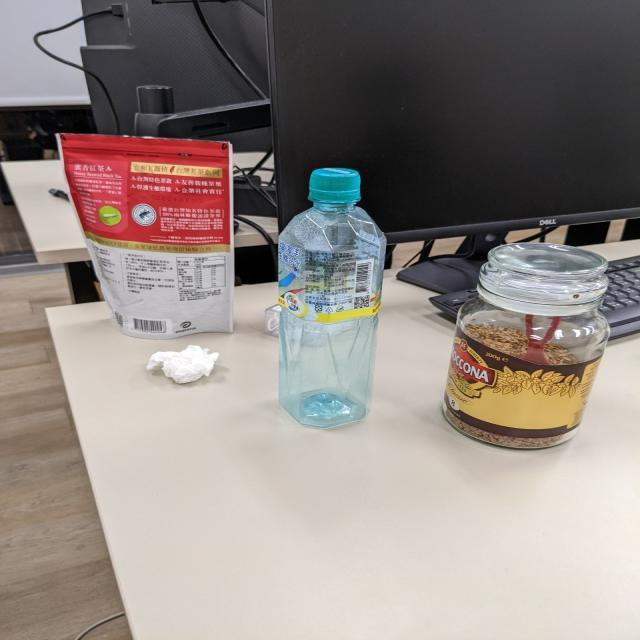bottle: (264, 156, 386, 433)
cap: (300, 162, 360, 210)
label: (272, 244, 397, 317)
